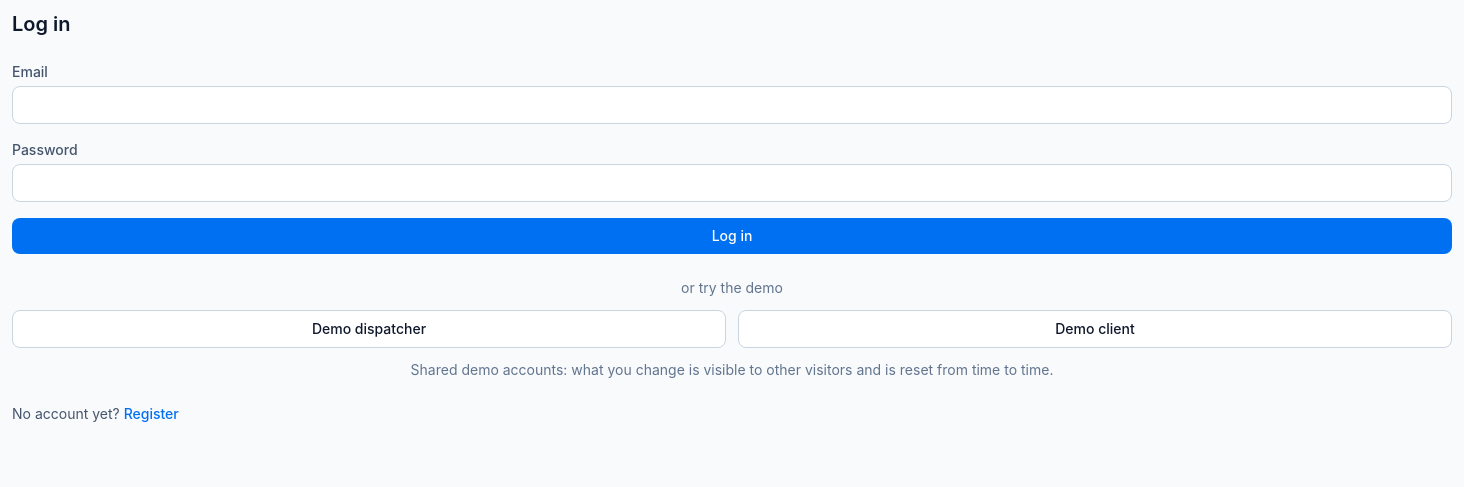
Test: LoginPage › never triggers a demo login when the empty form is submitted
Step 1. Click the button "Log in" → (732, 236), box [12, 218, 1452, 254]
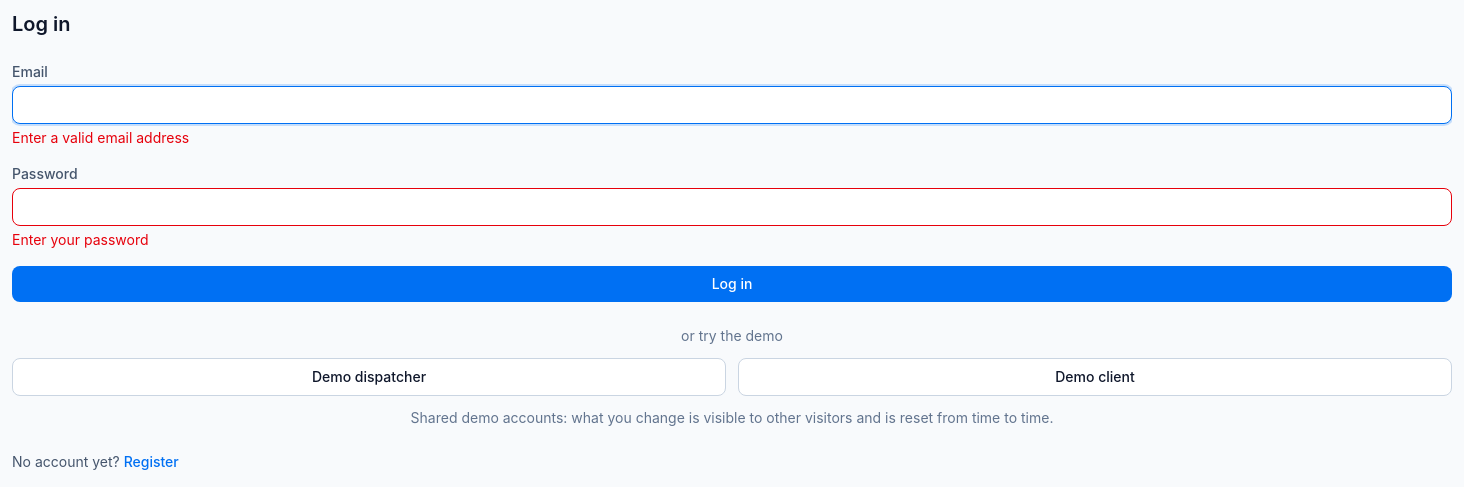
Result: the text "Enter a valid email address" is shown at [12, 129, 189, 146]
Result: the text "Enter your password" is shown at [12, 231, 148, 248]
